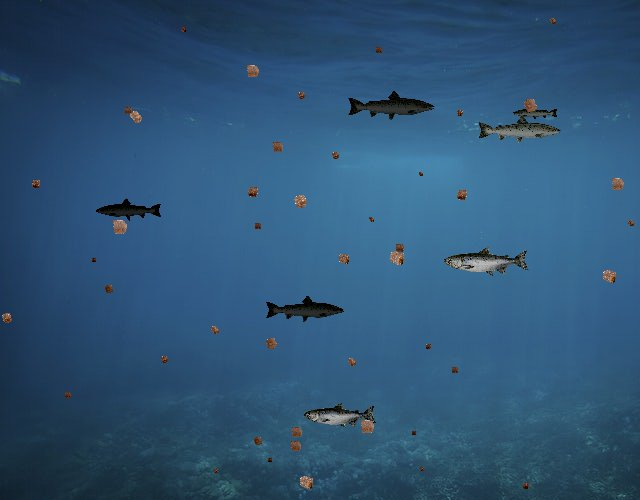Fish: (347, 89, 437, 122), (476, 114, 562, 145), (444, 246, 530, 277), (264, 295, 345, 324), (304, 402, 377, 428), (96, 197, 164, 222), (513, 105, 560, 122)
Pellet: (104, 212, 134, 242), (239, 58, 266, 85), (242, 181, 264, 203), (0, 307, 18, 329), (342, 352, 361, 371), (391, 239, 408, 257), (518, 479, 532, 493), (372, 43, 386, 57), (422, 340, 435, 353), (177, 23, 190, 36), (210, 465, 220, 476)
